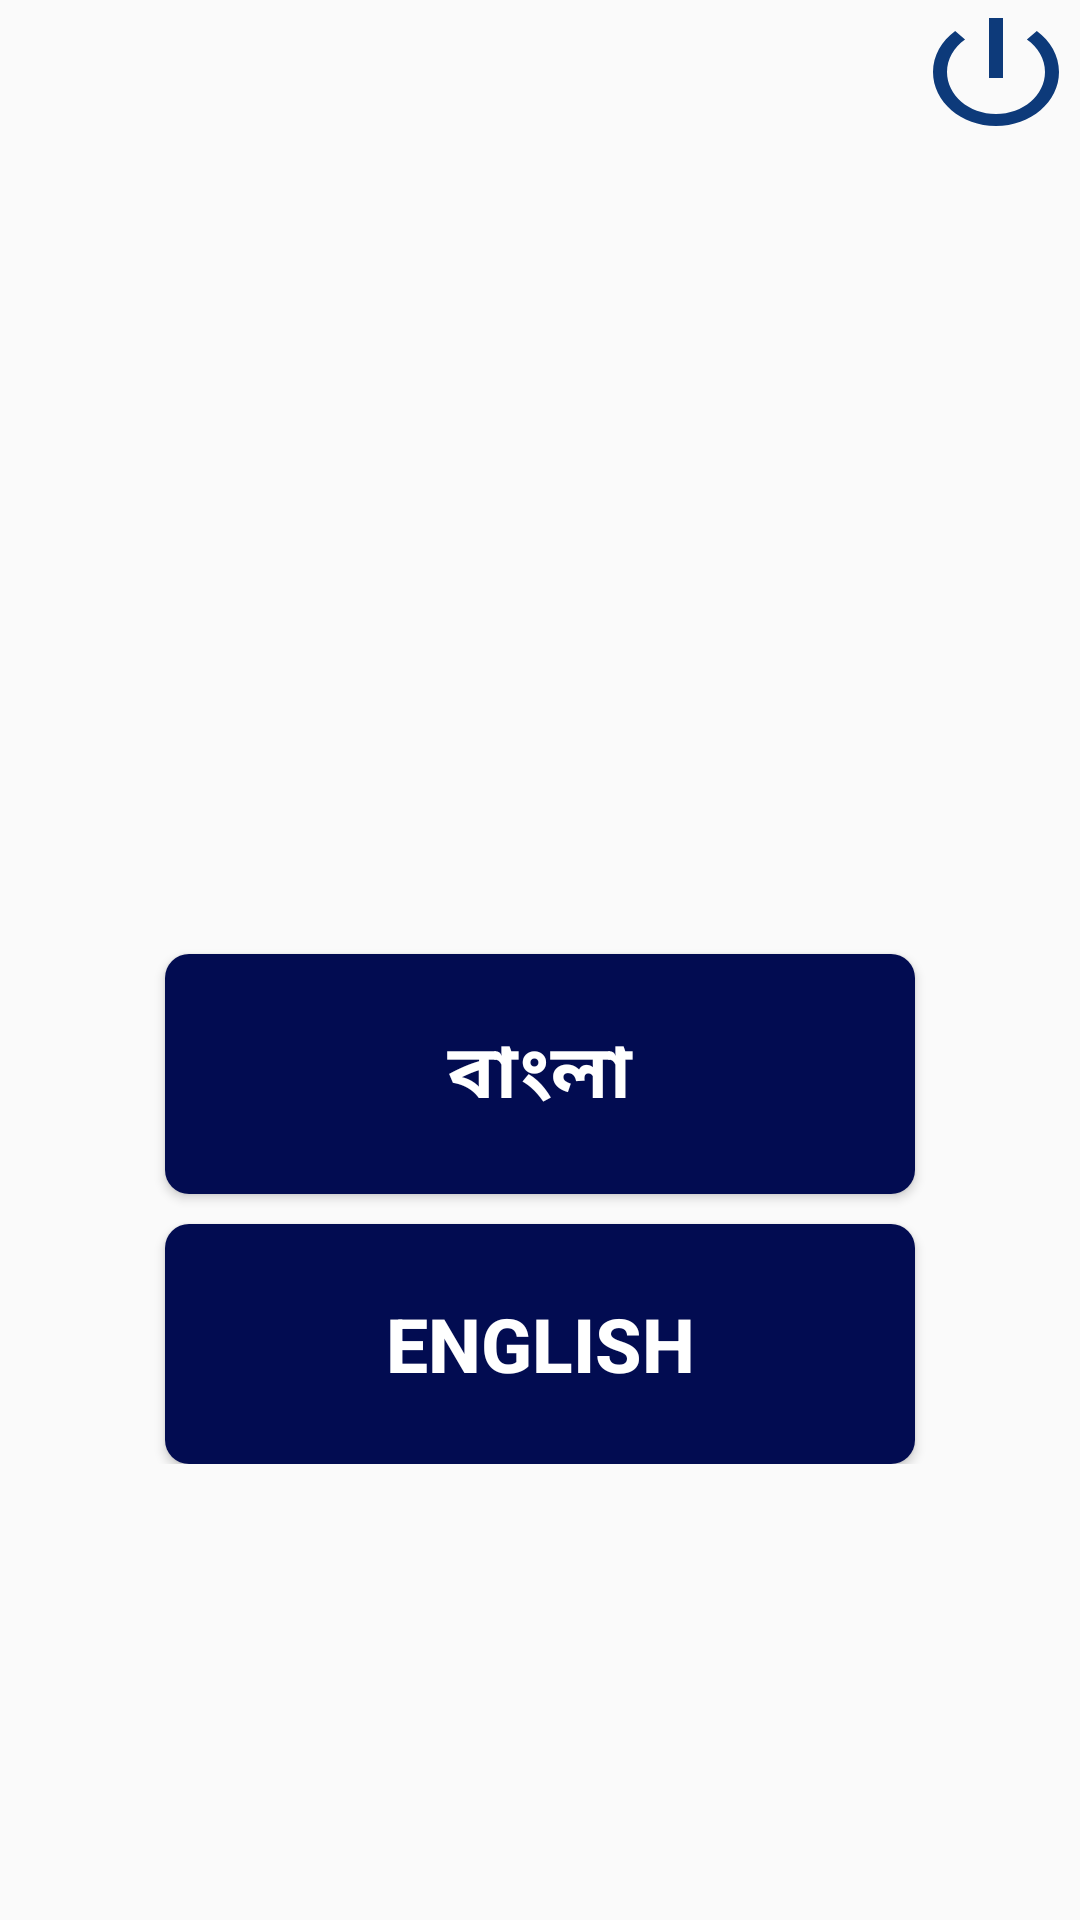

Where icons sit on this 1080px×1920px app screen, as (x1, y1, x2, y2):
exitimg: (933, 18, 1059, 126)
